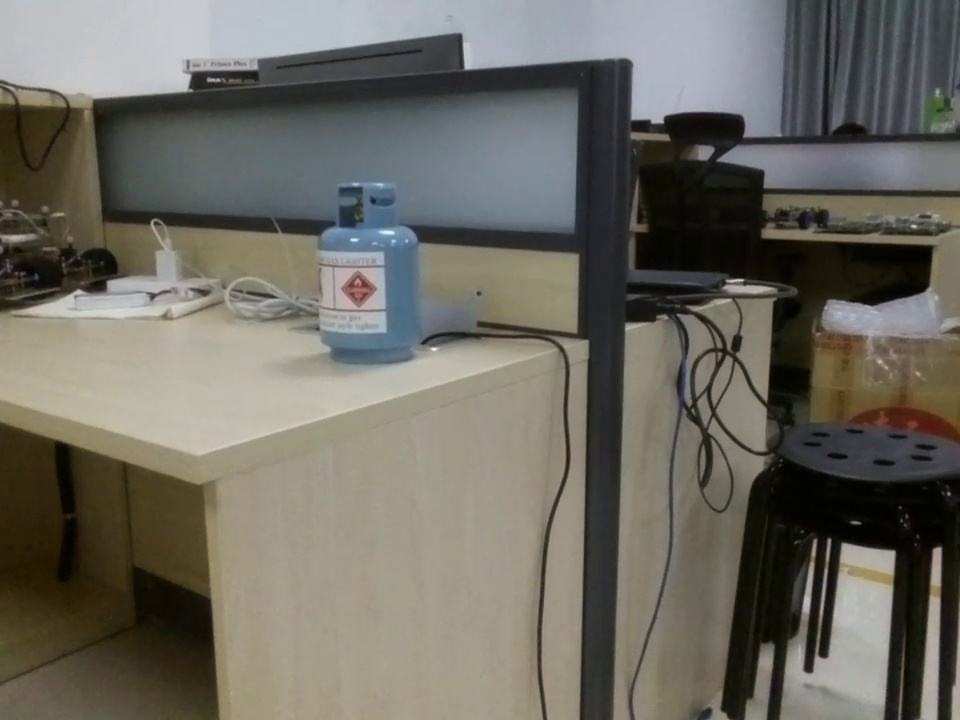gas tank: (309, 173, 434, 367)
